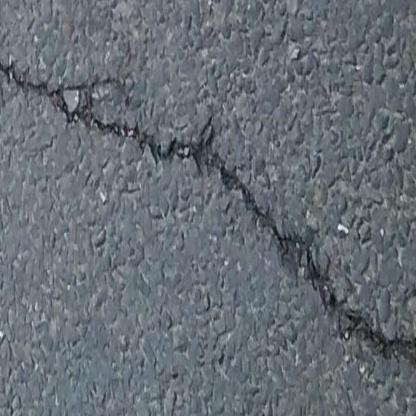Cracks: (0, 40, 416, 380)
